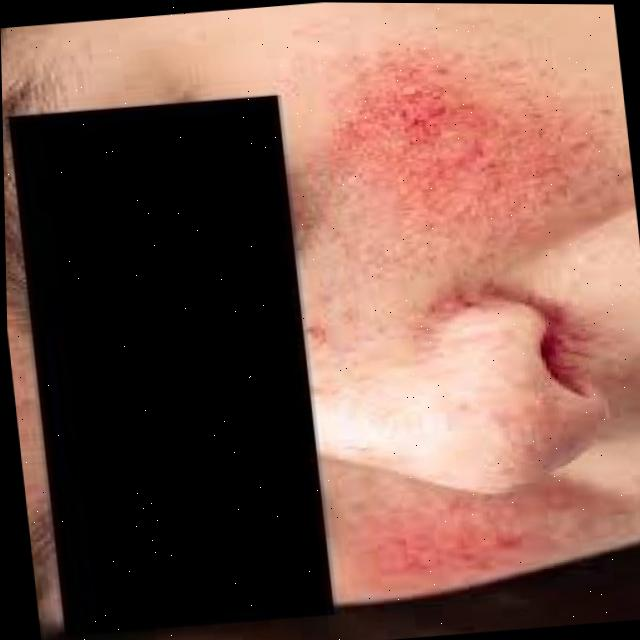Rosacea: (317, 65, 608, 248), (371, 500, 540, 576)
